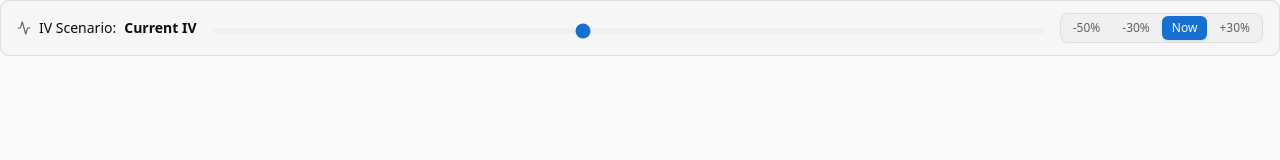
Test case: IvScenarioControl › previews while sliding and commits on release
The width and height of the screenshot is (1280, 160).
Step 1. Set the slider named "Implied volatility change" to "-40" → (402, 31), box [212,28,1044,34]
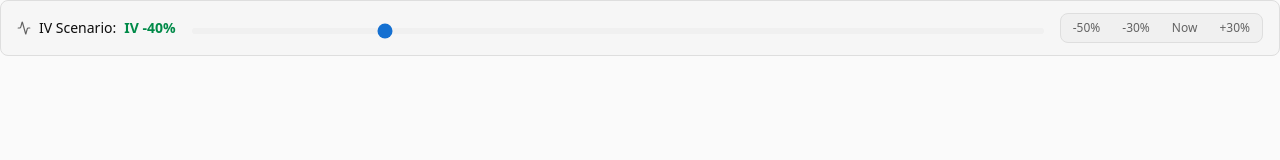
Now the text "IV -40%" is shown, box [124,18,176,38]
